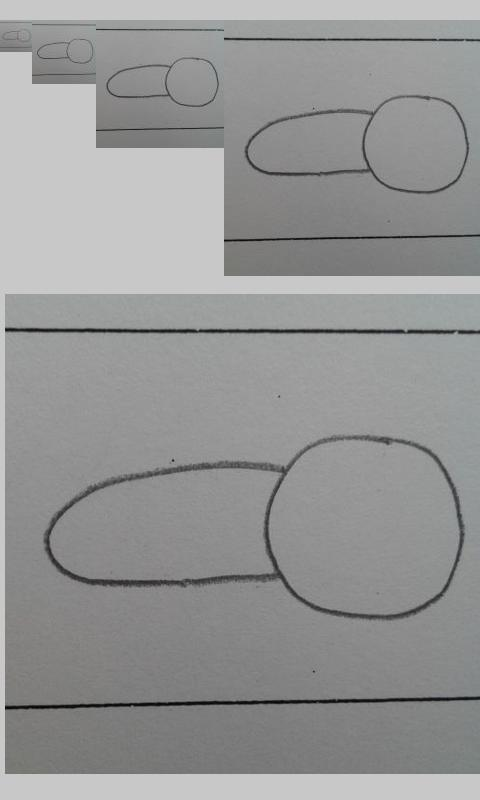switch: (43, 433, 466, 621), (245, 94, 470, 194), (106, 56, 220, 108), (36, 38, 94, 64), (1, 28, 32, 43)
